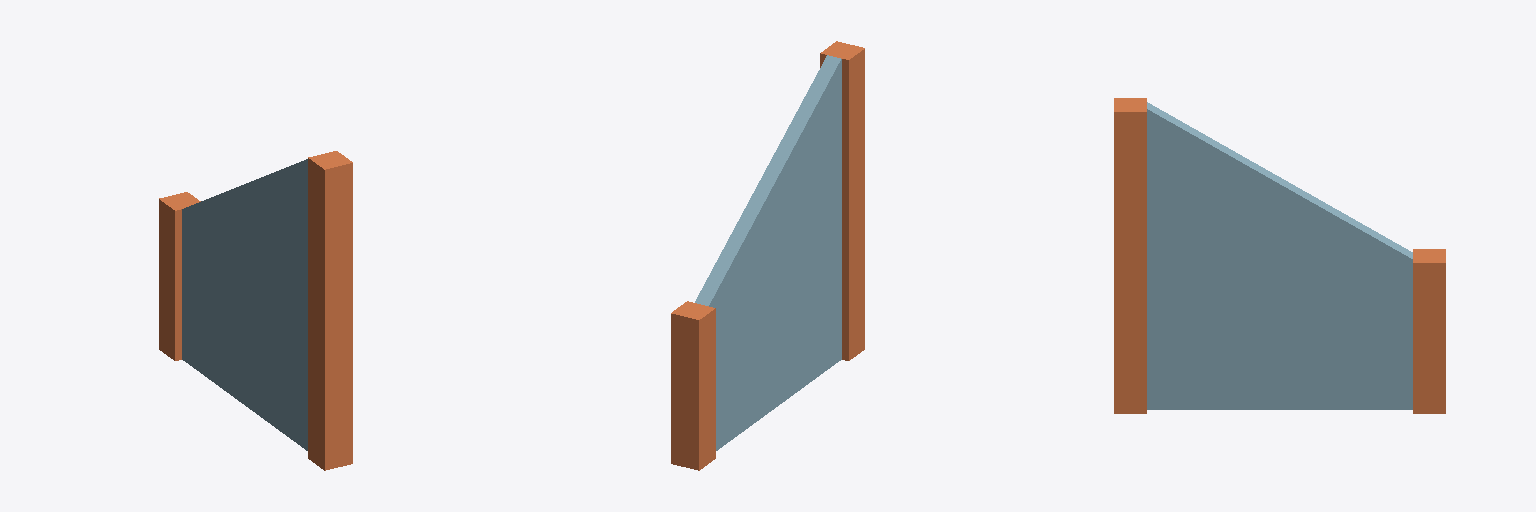
The model's file is wallSlope.obj.
The picture shows the model from 3 angles: view 1: azimuth 30°, elevation 25°; view 2: azimuth 150°, elevation 25°; view 3: azimuth 270°, elevation 25°; orthographic projection.
Parts seen in each view (by area): view 1: wallSlope; view 2: wallSlope; view 3: wallSlope.
Part boxes in pixels (x1,y1,x2,y2): wallSlope: (159,151,352,470); wallSlope: (671,41,864,470); wallSlope: (1114,98,1445,413).
Size of the model in its own units: 0.1 by 1 by 1.